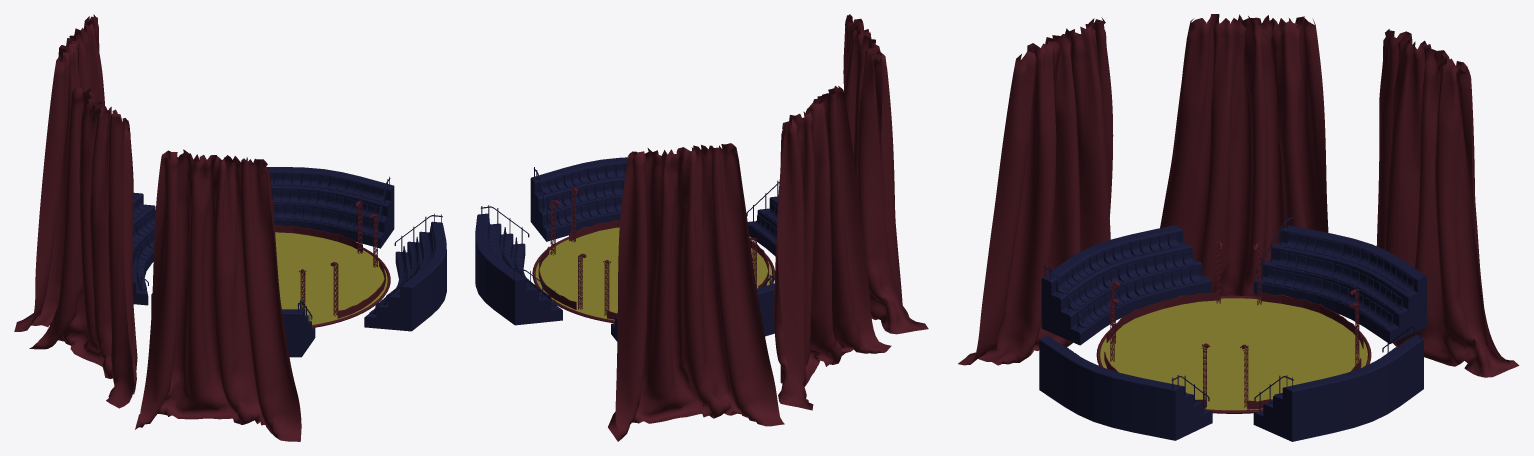
Rendered from Escenario.fbx.
3 views of the same model, side by side, from view 1: azimuth 30°, elevation 25°; view 2: azimuth 150°, elevation 25°; view 3: azimuth 270°, elevation 25° (orthographic). The views are drawn at different scales.
Parts seen in each view (by area): view 1: Grid, Base.003, Plane, Base.010, Base.008, Base.009, Plane.003, Torus, Plane.002; view 2: Grid, Base.010, Plane, Base.003, Base.009, Base.008, Torus; view 3: Grid, Plane, Base.008, Base.009, Base.010, Base.003, Plane.001, Plane.004, Torus.
Boxes of the visible parts, bbox=[...] form: Grid: bbox=[14, 14, 301, 441]; Base.003: bbox=[246, 157, 394, 248]; Plane: bbox=[275, 232, 387, 324]; Base.010: bbox=[364, 213, 446, 331]; Base.008: bbox=[132, 192, 155, 305]; Base.009: bbox=[151, 293, 315, 357]; Plane.003: bbox=[274, 224, 362, 252]; Torus: bbox=[312, 247, 390, 327]; Plane.002: bbox=[337, 258, 385, 318]; Grid: bbox=[608, 14, 928, 441]; Base.010: bbox=[530, 157, 627, 241]; Plane: bbox=[535, 227, 772, 320]; Base.003: bbox=[475, 213, 562, 325]; Base.009: bbox=[746, 180, 779, 256]; Base.008: bbox=[611, 275, 774, 341]; Torus: bbox=[532, 236, 774, 323]; Grid: bbox=[958, 14, 1519, 377]; Plane: bbox=[1097, 298, 1367, 410]; Base.008: bbox=[1253, 215, 1426, 343]; Base.009: bbox=[1041, 225, 1211, 345]; Base.010: bbox=[1039, 335, 1212, 440]; Base.003: bbox=[1253, 325, 1423, 441]; Plane.001: bbox=[1106, 292, 1219, 342]; Plane.004: bbox=[1261, 292, 1363, 348]; Torus: bbox=[1096, 295, 1371, 413].
Size of the model in its own units: 6532 by 4723 by 7838.
